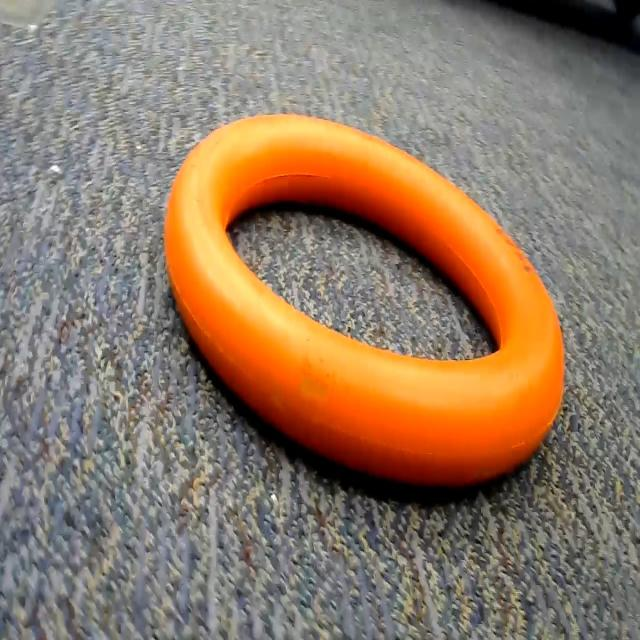note: (160, 107, 579, 539)
